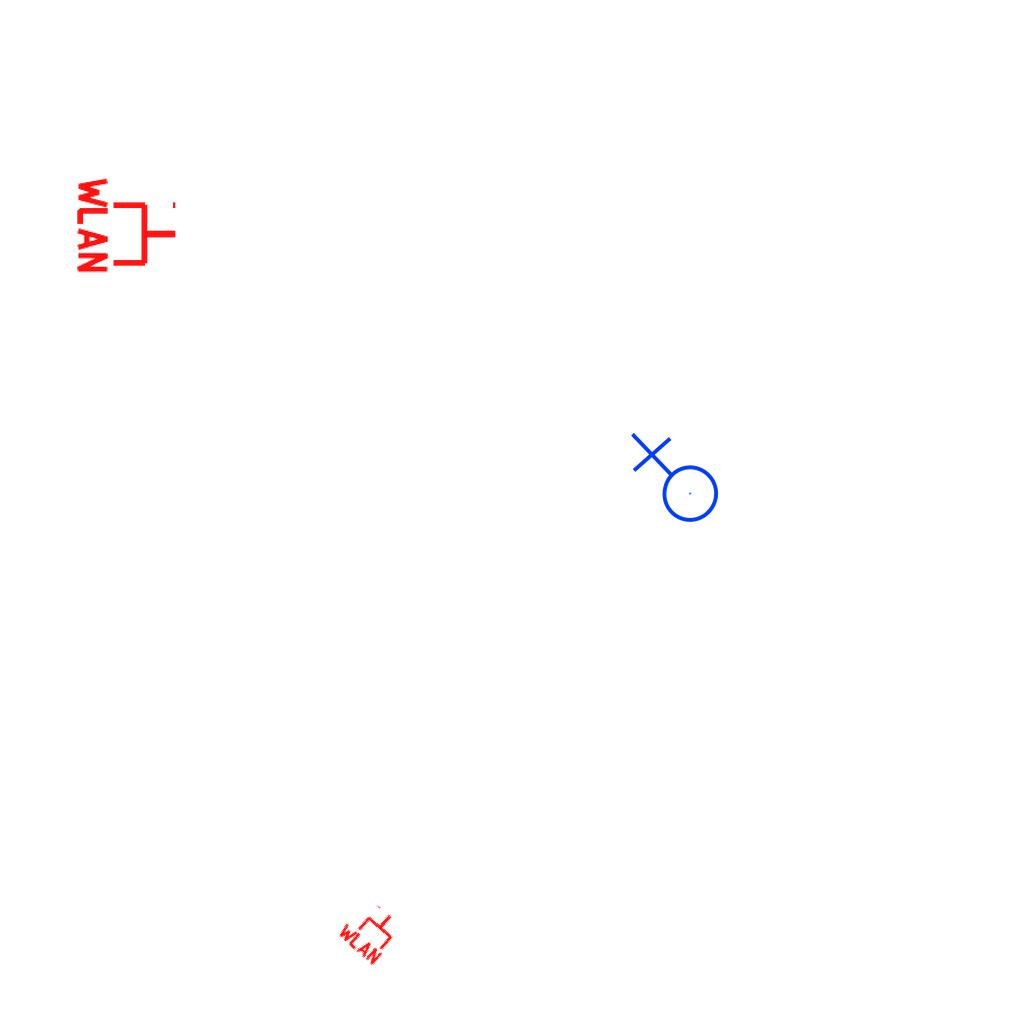Elektroanschluss_allgemein_230V_Geraeteanschlussdose_230V: (626, 432, 720, 531)
WLAN: (75, 173, 180, 277), (334, 894, 408, 968)
